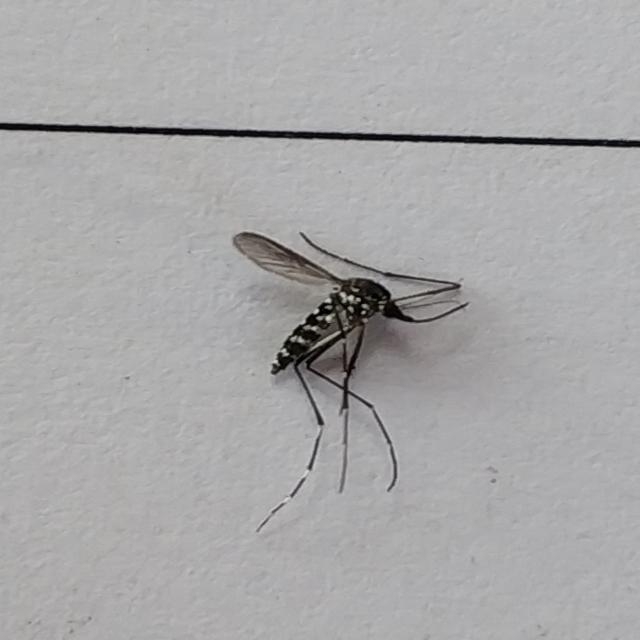albopictus: (221, 216, 475, 534)
